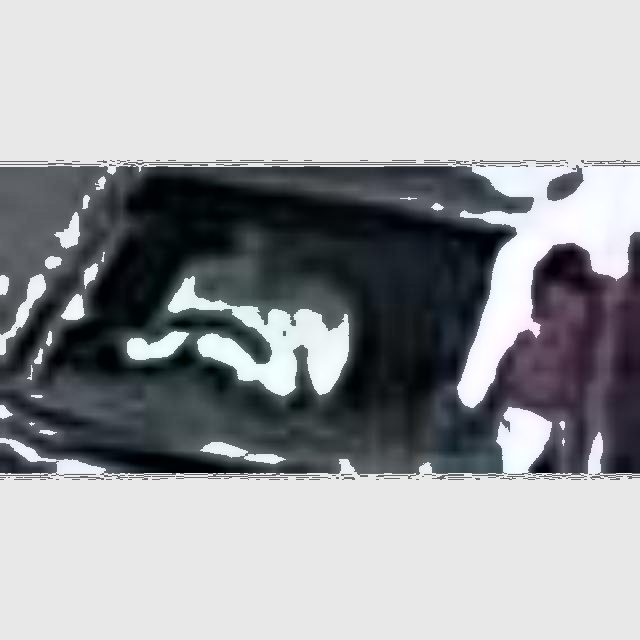tidak-pakai: (108, 221, 388, 401)
